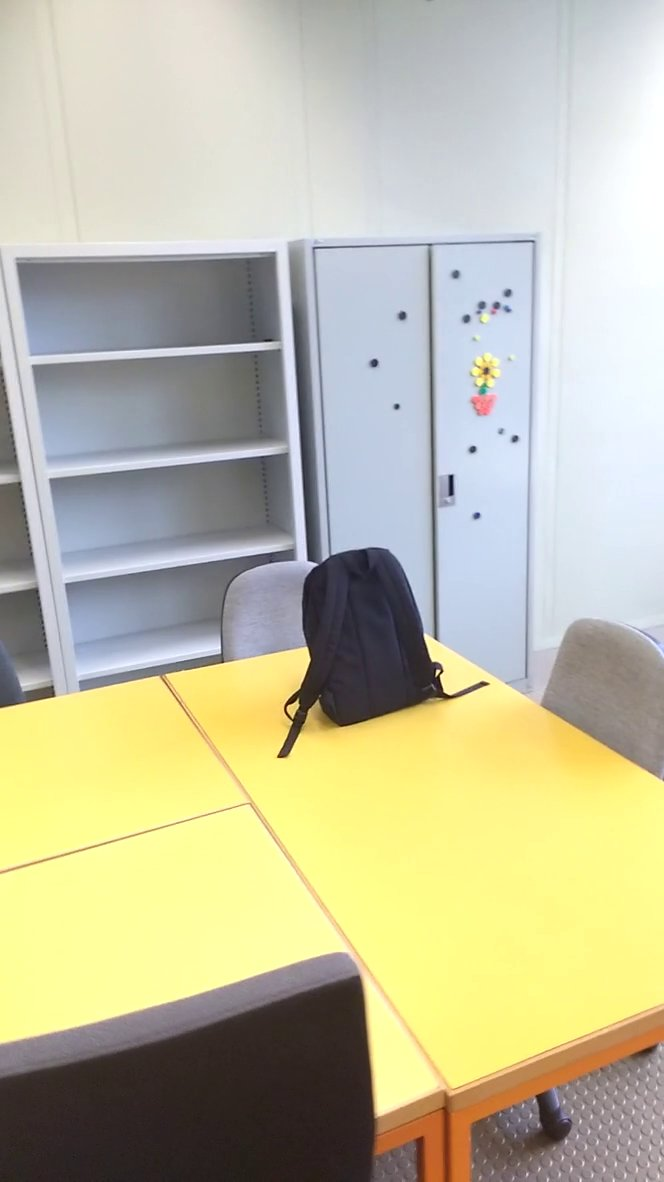bag: (268, 545, 493, 761)
chair: (531, 606, 664, 799), (190, 552, 349, 664)
